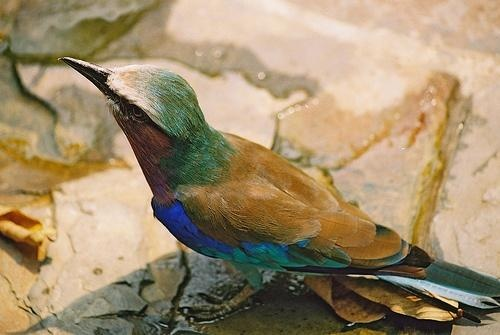bird: (52, 48, 500, 325)
